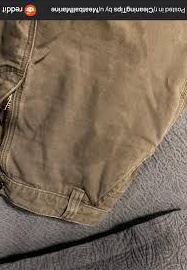oil: (66, 124, 102, 169)
